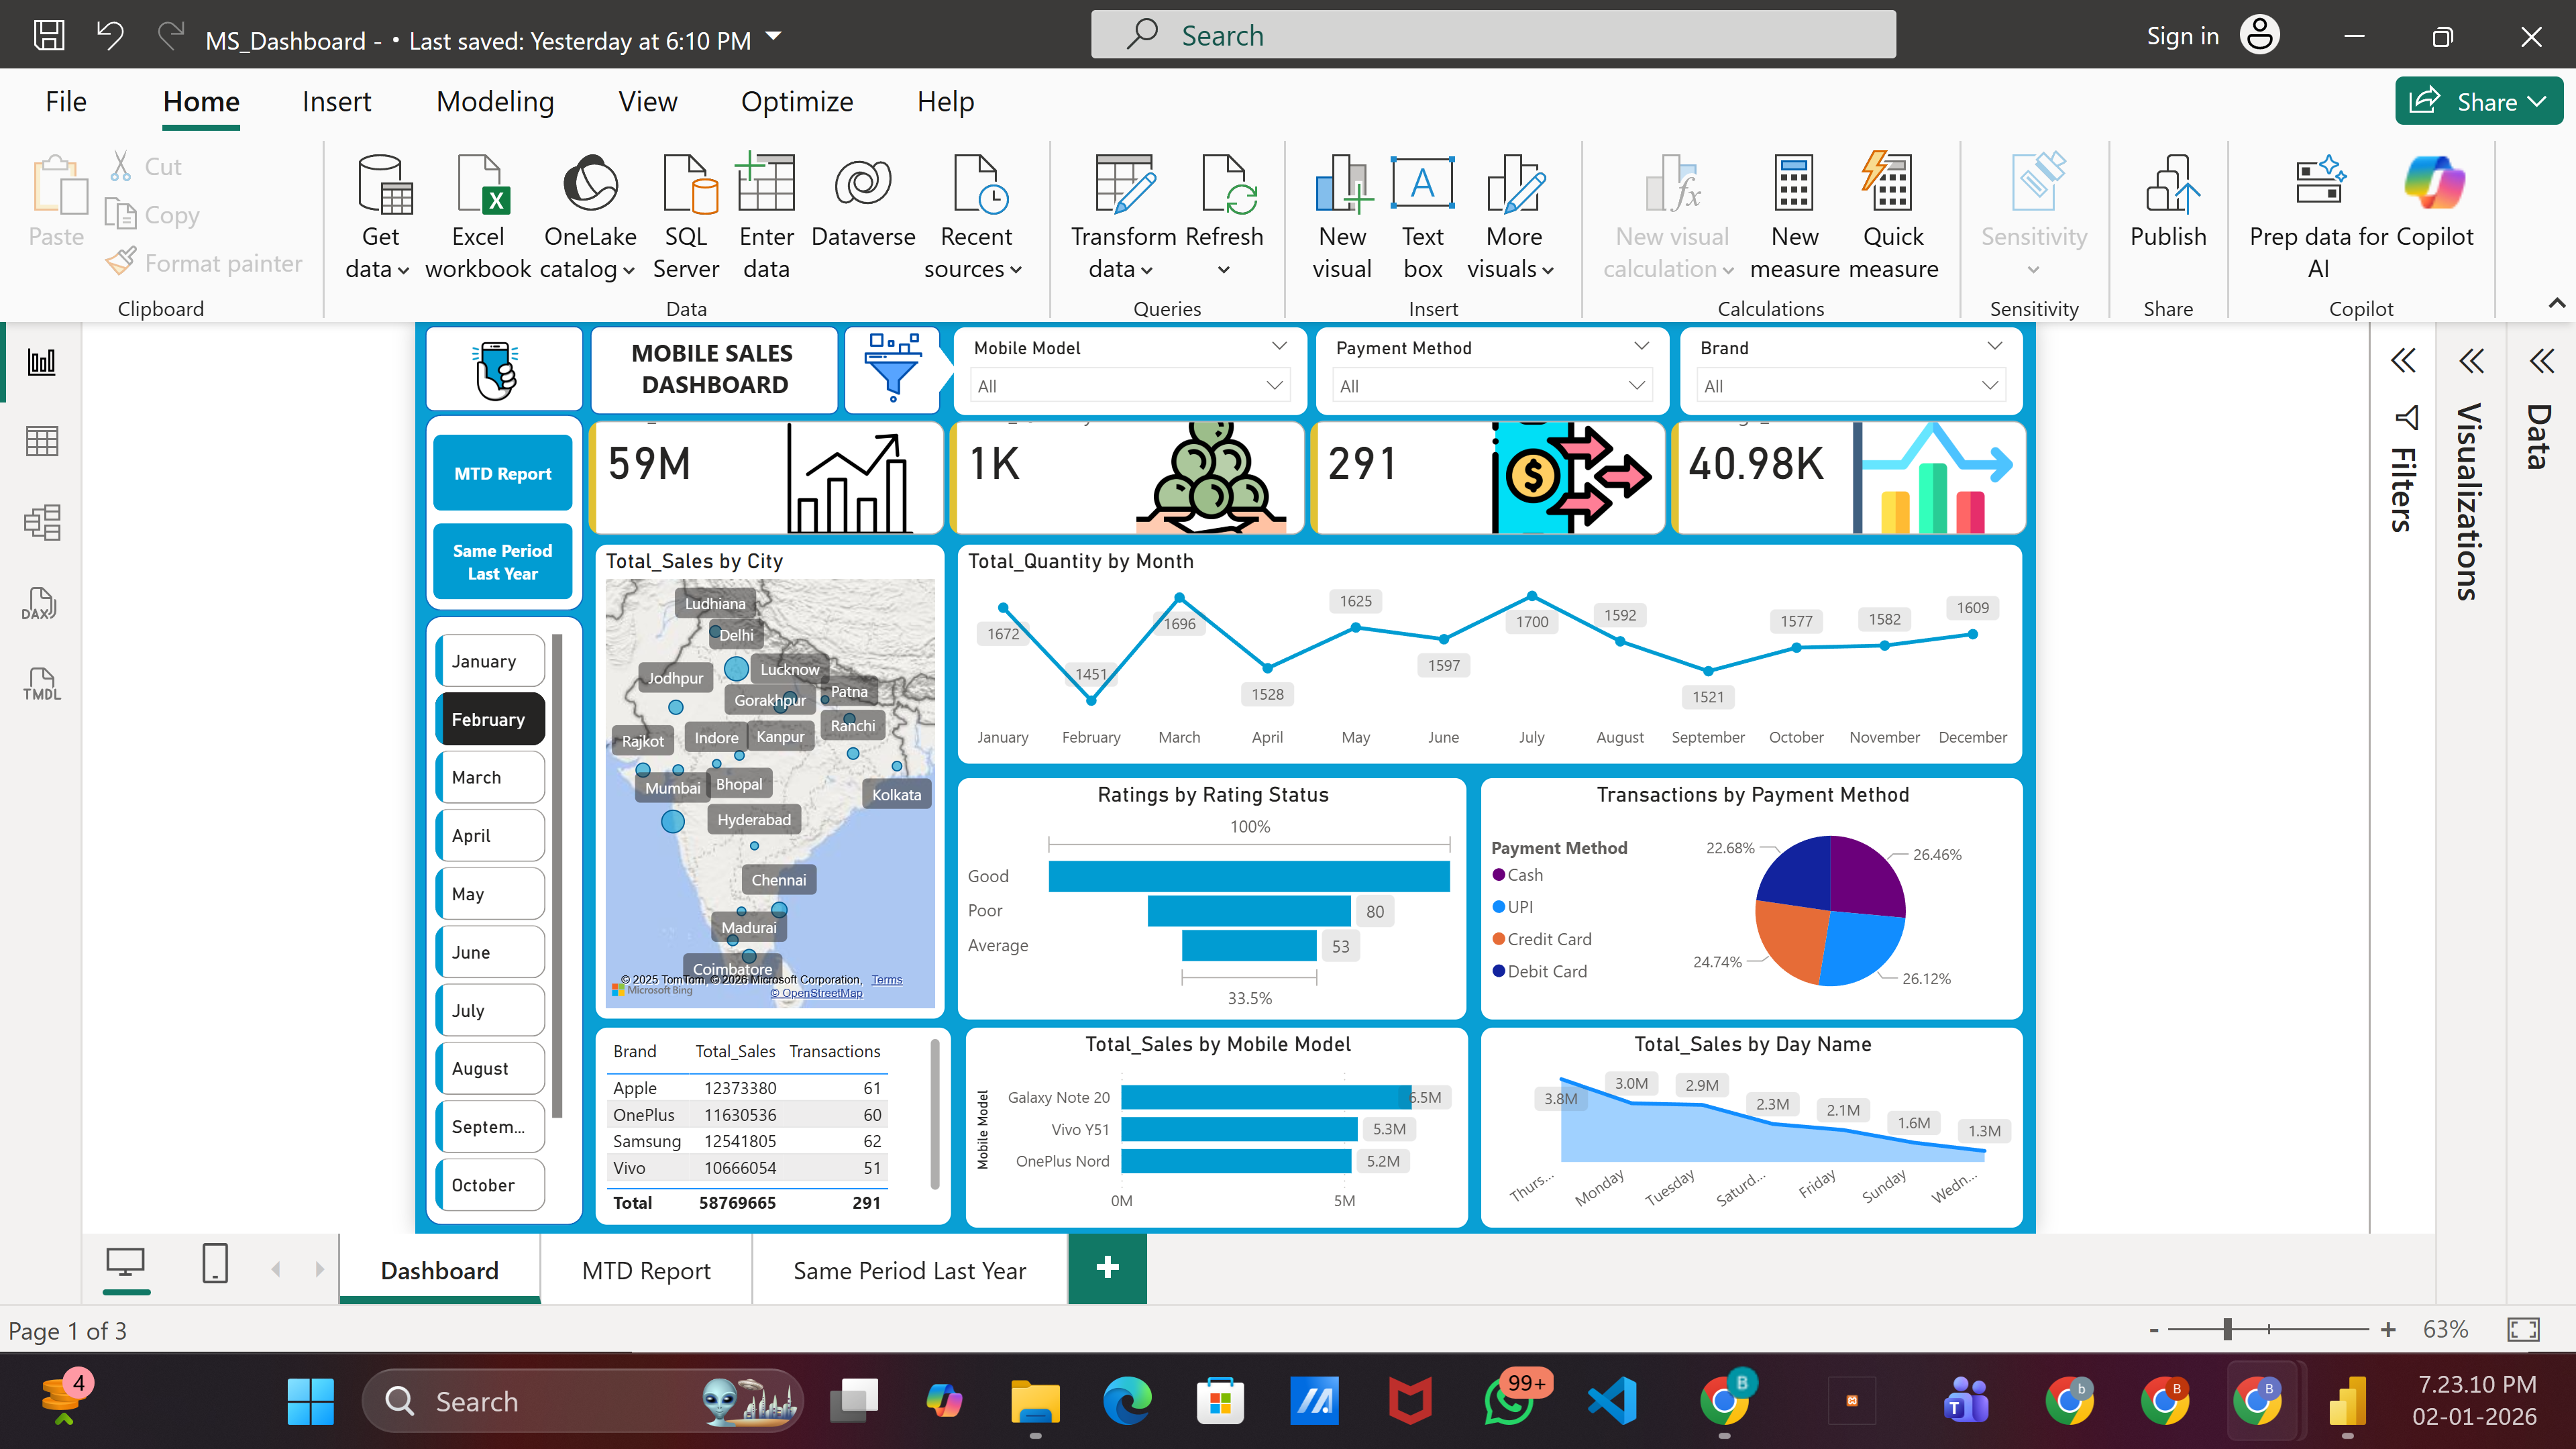

The page's visual inventory and layout, read from the dashboard file:
{"tool":"powerbi","page":{"name":"Dashboard","canvas":[1280,720],"ordinal":0},"visuals":[{"type":"shape","box":[7.5,3.8,125,67.5],"z":0},{"type":"image","box":[23.8,3.8,78.8,71.2],"z":1000},{"type":"shape","box":[7.5,73.8,125,155],"z":2000},{"type":"shape","box":[7.5,232.5,125,481.2],"z":3000},{"type":"advancedSlicerVisual","fields":{"Values":["Custom_Calendar.Date.Variation.Date Hierarchy.Month"]},"box":[11.2,241.2,110,472.5],"z":4000},{"type":"cardVisual","fields":{"Data":["Sales_Data.Total_Sales","Sales_Data.Total_Quantity","Sales_Data.Transactions","Sales_Data.Average_Price"]},"box":[132.5,73.8,1147.5,100],"z":5000},{"type":"slicer","fields":{"Values":["Sales_Data.Mobile Model"]},"box":[423.8,3.8,281.2,71.2],"z":6000},{"type":"slicer","fields":{"Values":["Sales_Data.Payment Method"]},"box":[710,3.8,281.2,71.2],"z":7000},{"type":"slicer","fields":{"Values":["Sales_Data.Brand"]},"box":[997.5,3.8,272.5,71.2],"z":8000},{"type":"shape","box":[338.8,3.8,76.2,70],"z":9000},{"type":"image","box":[337.5,3.8,81.2,66.2],"z":10000},{"type":"shape","box":[397.5,17.5,30,40],"z":11000},{"type":"shape","box":[137.5,3.8,196.2,70],"z":12000},{"type":"textbox","box":[156.2,6.2,162.5,63.8],"z":13000},{"type":"map","fields":{"Category":["Sales_Data.City"],"Size":["Sales_Data.Total_Sales"]},"box":[141.2,175,277.5,376.2],"z":14000},{"type":"lineChart","fields":{"Y":["Sales_Data.Total_Quantity"],"Category":["Custom_Calendar.Date.Variation.Date Hierarchy.Month"]},"box":[427.5,175,842.5,175],"z":15000},{"type":"funnel","title":"Ratings by Rating Status","fields":{"Y":["CountNonNull(Sales_Data.Customer Ratings)"],"Category":["Sales_Data.Rating Status"]},"box":[427.5,358.8,403.8,192.5],"z":16000},{"type":"pieChart","fields":{"Y":["Sales_Data.Transactions"],"Category":["Sales_Data.Payment Method"]},"box":[840,358.8,430,192.5],"z":17000},{"type":"clusteredBarChart","fields":{"Y":["Sales_Data.Total_Sales"],"Category":["Sales_Data.Mobile Model"]},"box":[433.8,556.2,398.8,160],"z":18000},{"type":"areaChart","fields":{"Y":["Sales_Data.Total_Sales"],"Category":["Custom_Calendar.Day Name"]},"box":[840,556.2,430,160],"z":19000},{"type":"tableEx","fields":{"Values":["Sales_Data.Brand","Sales_Data.Total_Sales","Sales_Data.Transactions"]},"box":[141.2,556.2,282.5,157.5],"z":20000},{"type":"pageNavigator","box":[15,88.8,110,130],"z":21000}]}

Visuals, with their boxes on the page's 1280x720 design canvas (x1, y1, x2, y2). These are canvas units, not pixel positions in the 2576x1449 screenshot, which may show the page scaled, cropped or inside an application window:
shape: 8,4,132,71
image: 24,4,103,75
shape: 8,74,132,229
shape: 8,232,132,714
advancedSlicerVisual - Custom_Calendar.Date.Variation.Date Hierarchy.Month: 11,241,121,714
cardVisual - Sales_Data.Total_Sales x Sales_Data.Total_Quantity: 132,74,1280,174
slicer - Sales_Data.Mobile Model: 424,4,705,75
slicer - Sales_Data.Payment Method: 710,4,991,75
slicer - Sales_Data.Brand: 998,4,1270,75
shape: 339,4,415,74
image: 338,4,419,70
shape: 398,18,428,58
shape: 138,4,334,74
textbox: 156,6,319,70
map - Sales_Data.City x Sales_Data.Total_Sales: 141,175,419,551
lineChart - Sales_Data.Total_Quantity x Custom_Calendar.Date.Variation.Date Hierarchy.Month: 428,175,1270,350
"Ratings by Rating Status" funnel: 428,359,831,551
pieChart - Sales_Data.Transactions x Sales_Data.Payment Method: 840,359,1270,551
clusteredBarChart - Sales_Data.Total_Sales x Sales_Data.Mobile Model: 434,556,833,716
areaChart - Sales_Data.Total_Sales x Custom_Calendar.Day Name: 840,556,1270,716
tableEx - Sales_Data.Brand x Sales_Data.Total_Sales: 141,556,424,714
pageNavigator: 15,89,125,219
